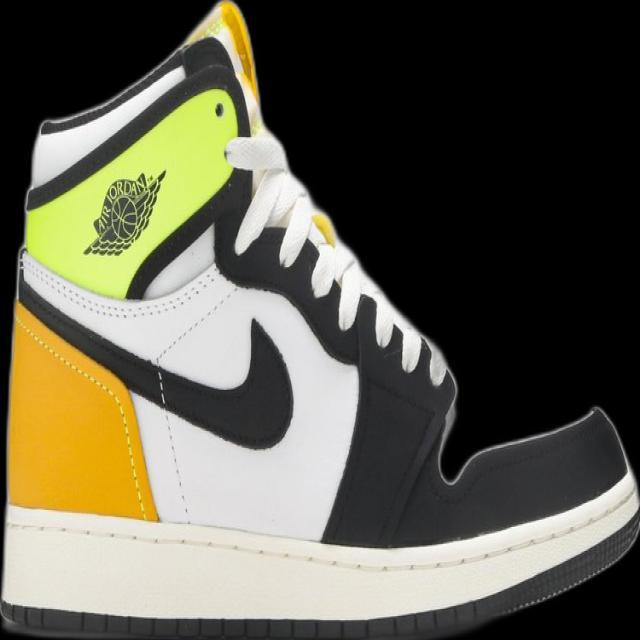J1_InsoleChar: (0, 0, 639, 639)
J1_ShoeLogo: (82, 168, 166, 257)
J1_StitchPattern: (23, 20, 455, 399), (223, 127, 454, 390), (2, 487, 639, 580), (14, 252, 296, 453), (12, 302, 158, 521), (147, 285, 238, 521), (17, 248, 226, 322), (149, 359, 196, 525)
